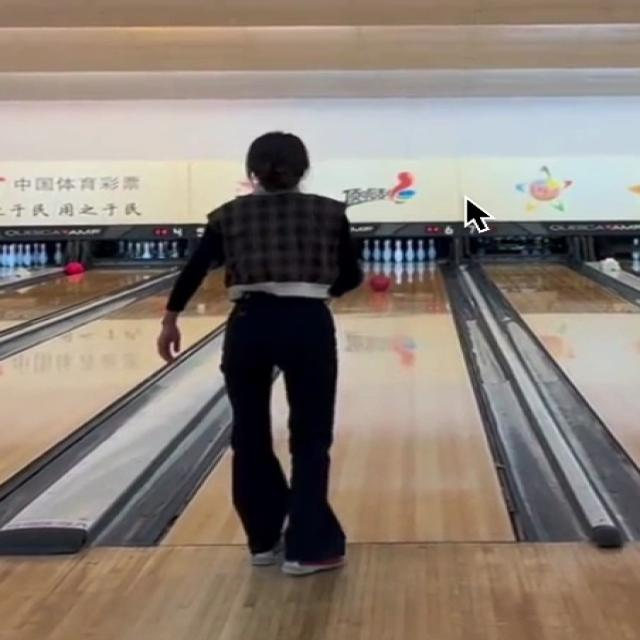alley: (330, 262, 511, 542), (167, 458, 239, 544)
balls: (370, 273, 389, 291)
bottle: (360, 239, 439, 263)
